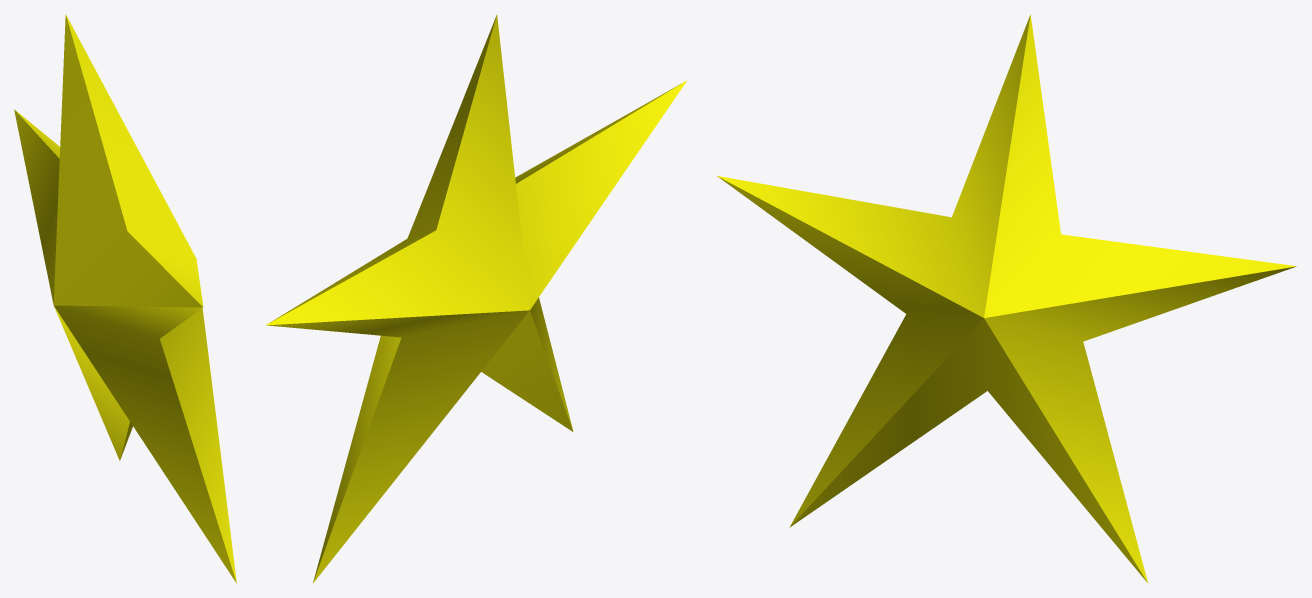
File: star.fbx
The picture shows the model from 3 angles, left to right: view 1: azimuth 30°, elevation 25°; view 2: azimuth 150°, elevation 25°; view 3: azimuth 270°, elevation 25°; orthographic projection. The views are drawn at different scales.
Parts seen in each view (by area): view 1: Cylinder; view 2: Cylinder; view 3: Cylinder.
Boxes of the visible parts, box(x1,y1,x2,y2) form: Cylinder: box(14, 14, 236, 583); Cylinder: box(266, 15, 686, 582); Cylinder: box(717, 14, 1296, 582).
Bounding box in the file's own units: 245 × 899 × 919.
